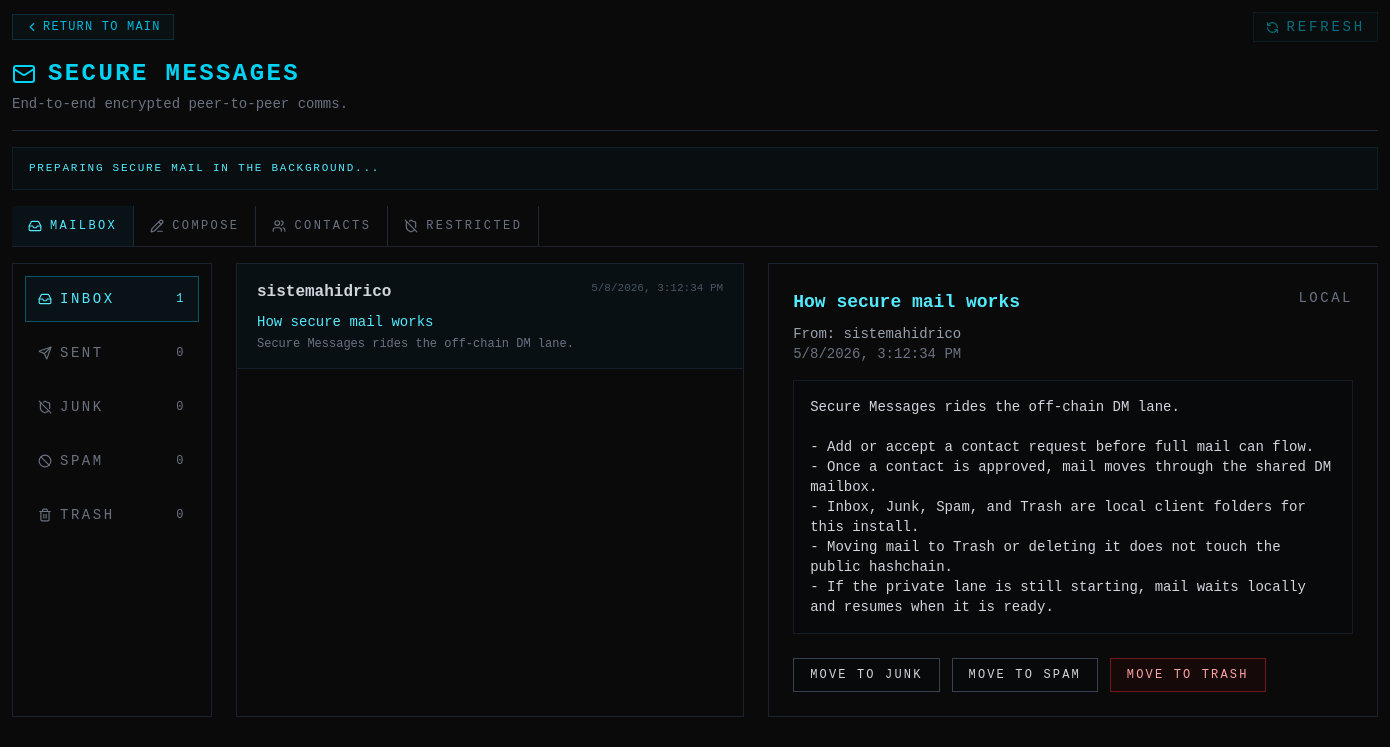
Test case: MessagesView first-contact trust UX › does not flatten witness policy not met into a generic witnessed root label
Click the button "CONTACTS". click: [322, 226]
box: 256,206 -> 388,246
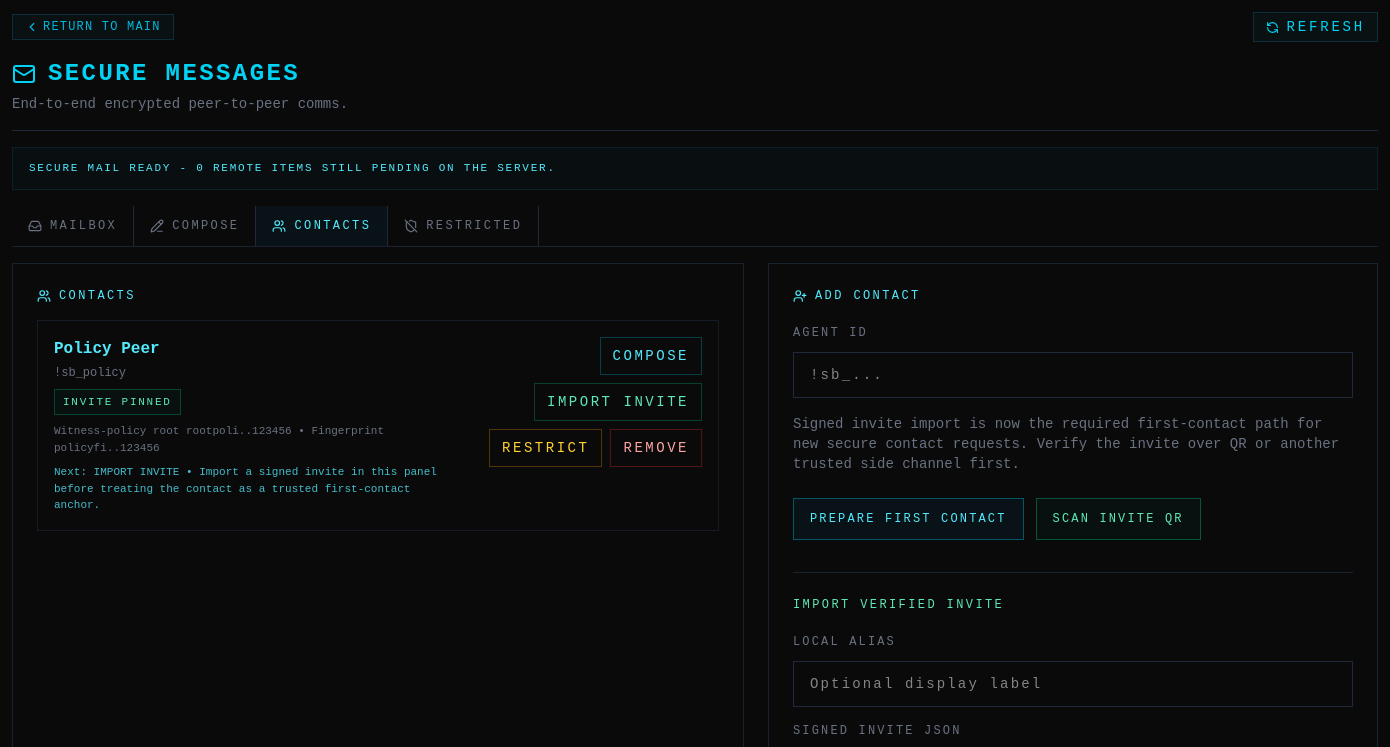
expect the text "Witness-policy root rootpoli..123456" is shown: met, box 54,425 -> 384,454
